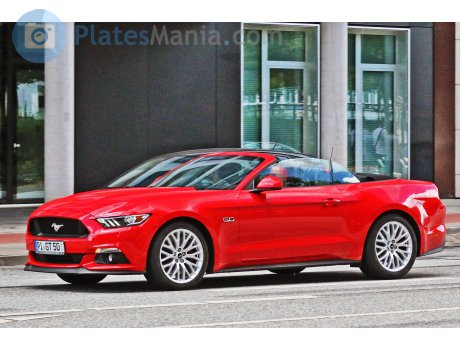License Plates: (34, 240, 62, 250)
